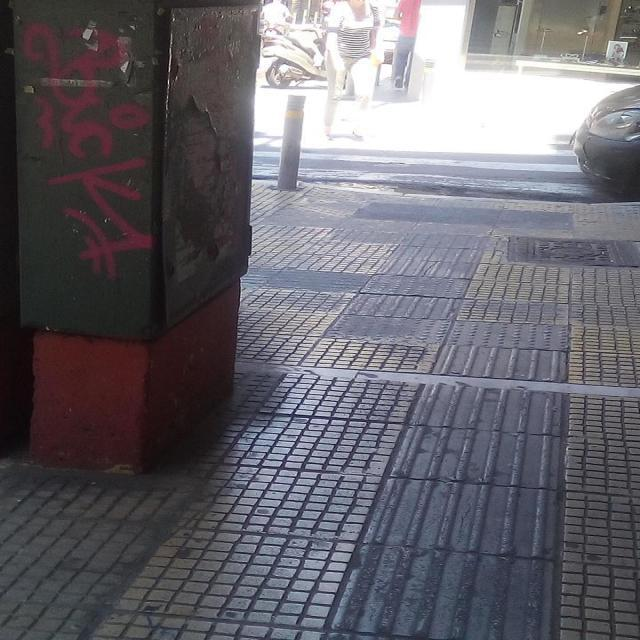nonspitting: (23, 24, 153, 278)
